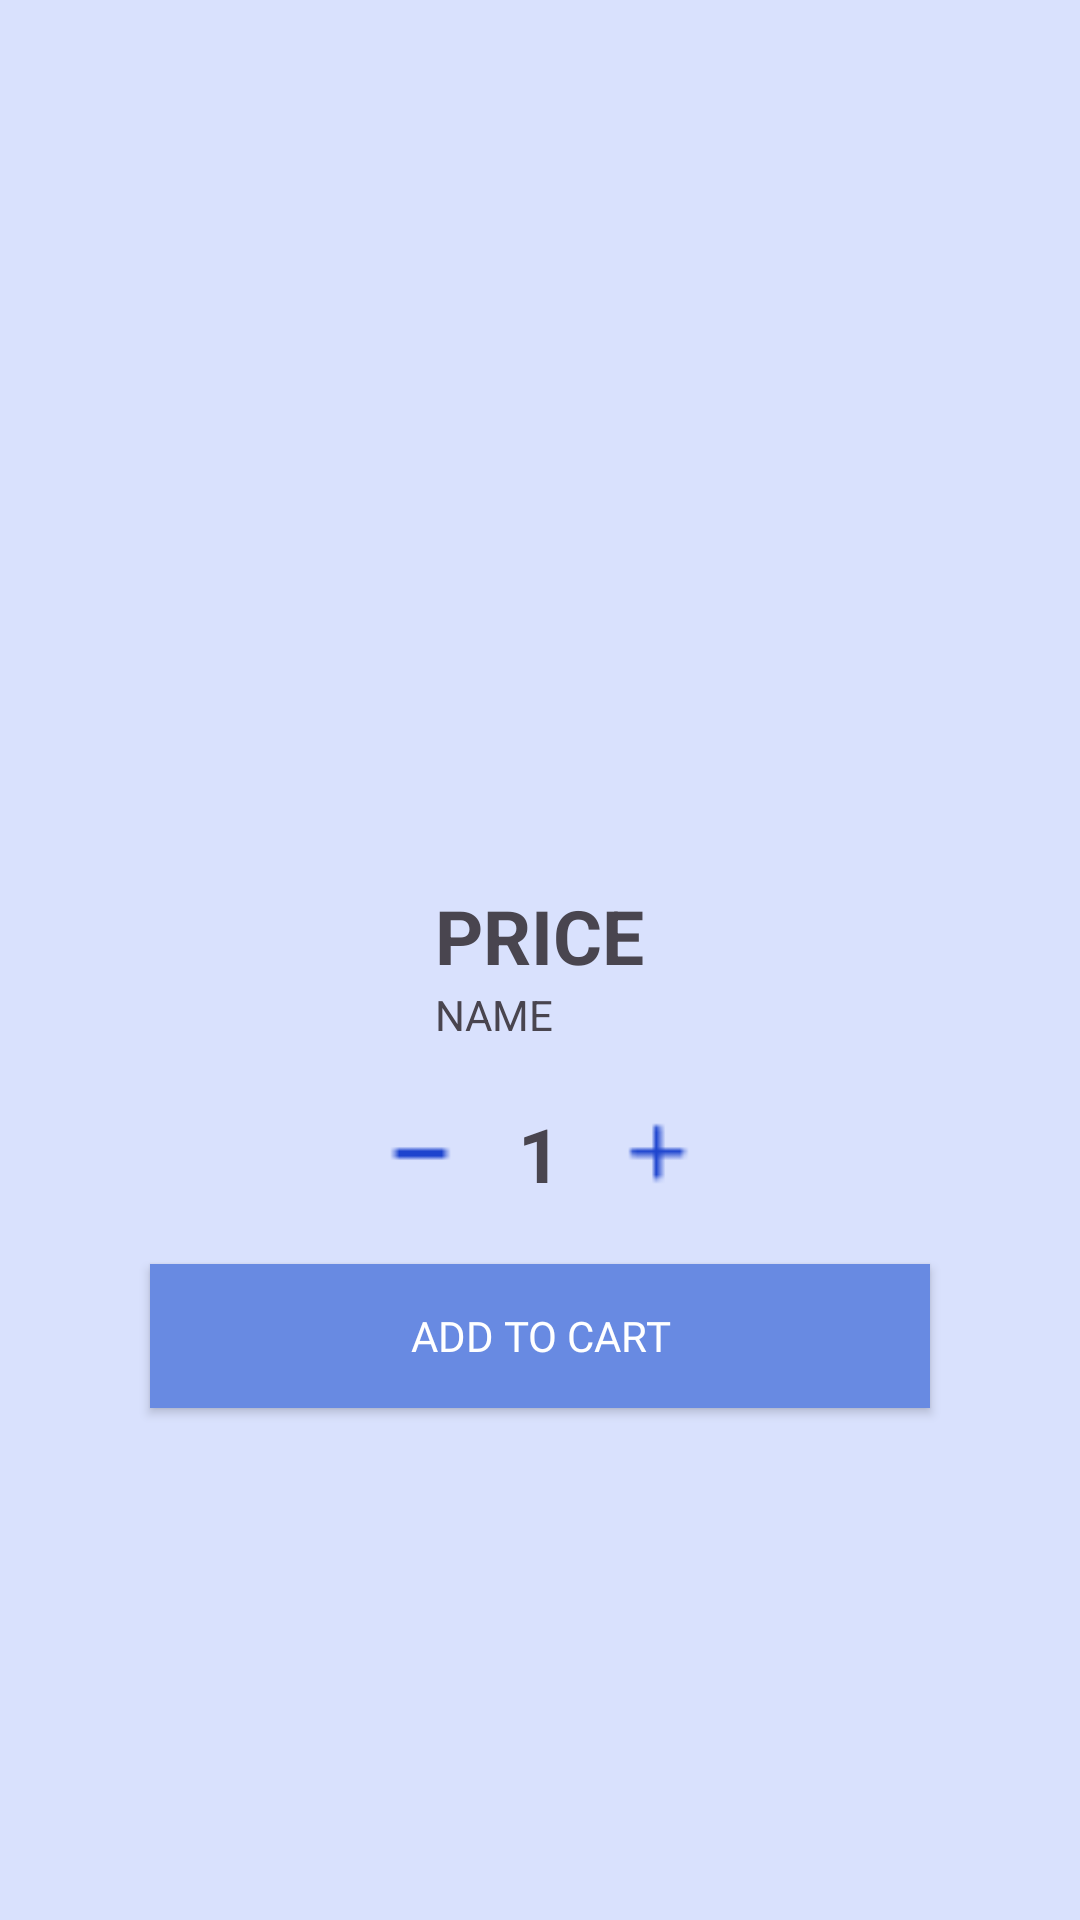

Point at icon controls on the screen. Image size 1080×1920, points as point (x, y).
minus: point (420, 1153)
plus: point (658, 1153)
